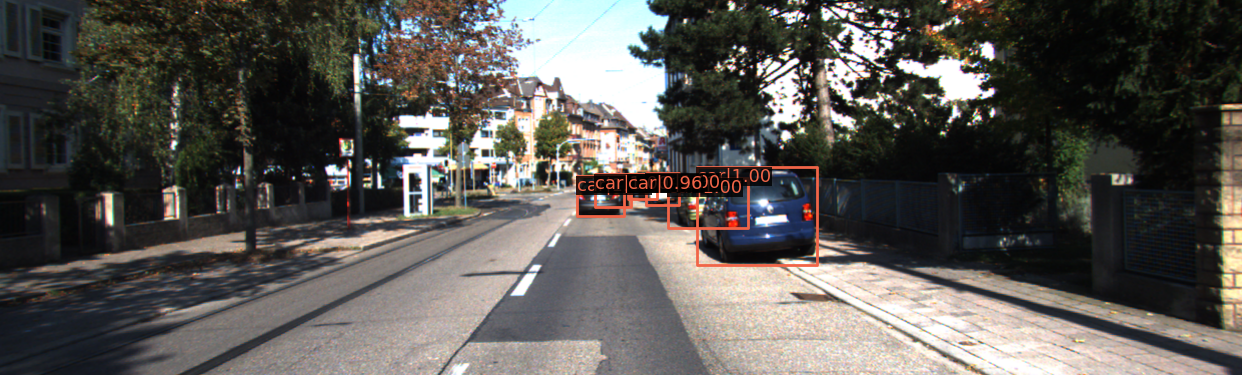car: (697, 167, 821, 268), (1214, 211, 1242, 375), (676, 179, 739, 232), (577, 178, 620, 219), (595, 173, 629, 209), (648, 176, 681, 207)
